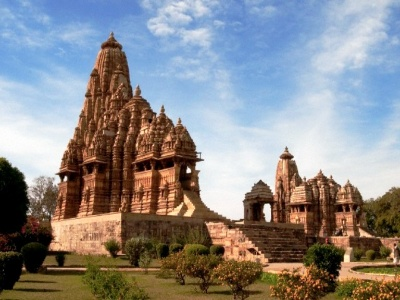amalaka: (96, 36, 129, 53)
gopuram: (85, 47, 138, 128)
mandapa: (133, 142, 206, 177), (52, 163, 111, 186)
